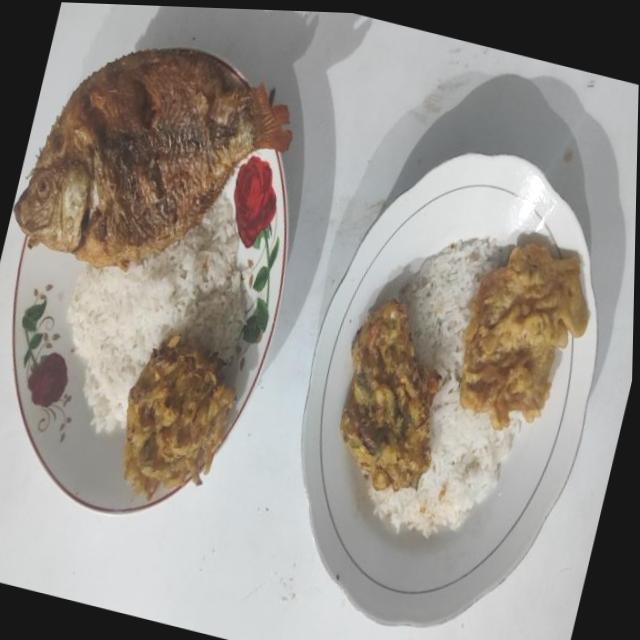ikan_mujair: (14, 48, 292, 270)
nasi_putih: (368, 238, 521, 536), (68, 195, 246, 432)
